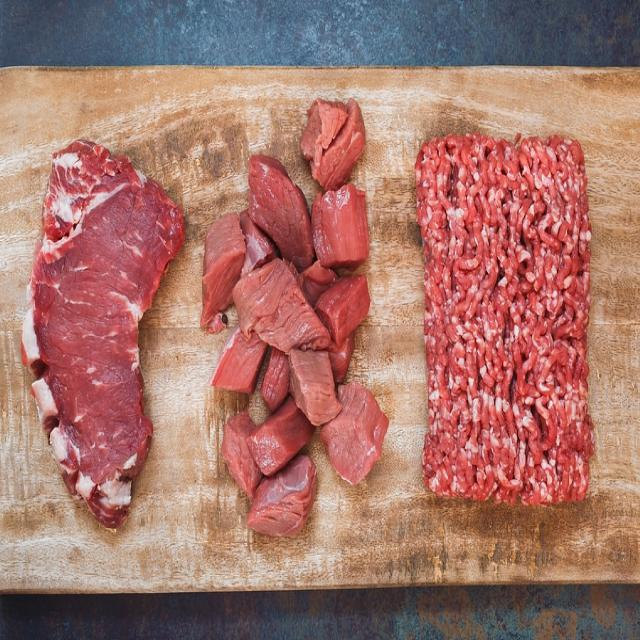Beef: (21, 139, 184, 530), (233, 258, 331, 354), (249, 154, 315, 271), (321, 382, 390, 485), (302, 97, 366, 191), (247, 455, 317, 538), (247, 397, 314, 477), (311, 182, 370, 270), (201, 213, 246, 326), (209, 325, 268, 394), (289, 349, 342, 425), (315, 275, 370, 347), (223, 412, 262, 500)
